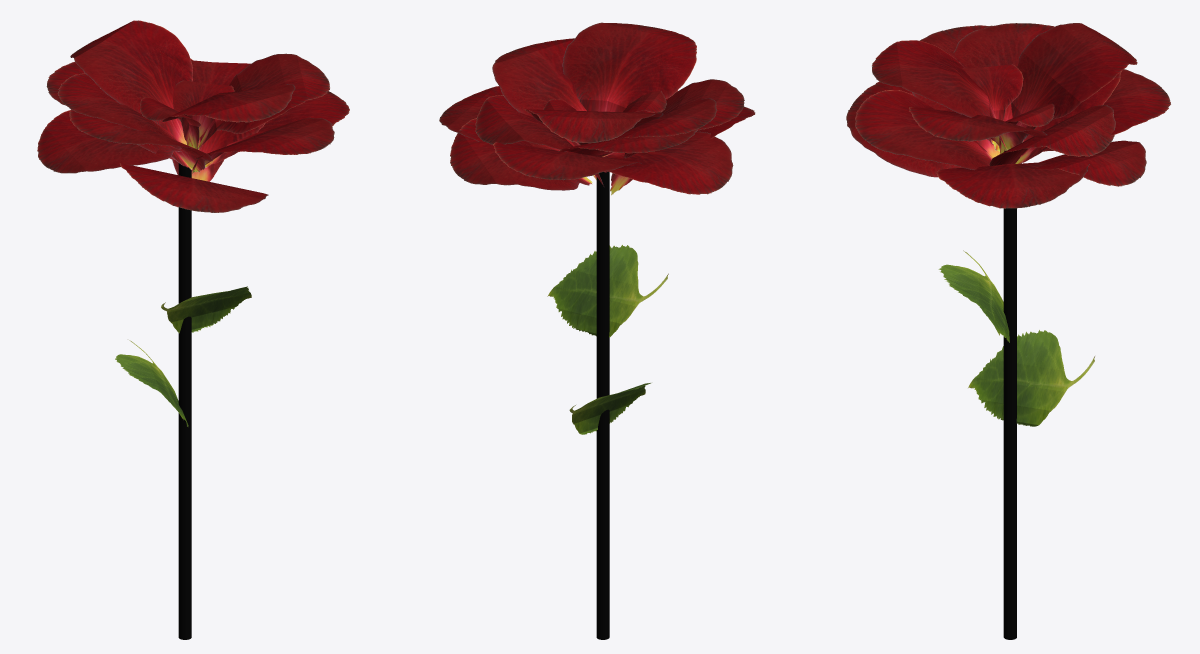
The model's file is Flower.fbx.
The picture shows the model from 3 angles, left to right: view 1: azimuth 30°, elevation 25°; view 2: azimuth 150°, elevation 25°; view 3: azimuth 270°, elevation 25°; orthographic projection. The views are drawn at different scales.
Visible parts, largest first — view 1: Cylinder; view 2: Cylinder; view 3: Cylinder.
Boxes of the visible parts, x1,y1,x2,y2 form: Cylinder: [37, 20, 349, 639]; Cylinder: [439, 22, 755, 639]; Cylinder: [846, 23, 1170, 639].
Size of the model in its own units: 439 by 792 by 465.
